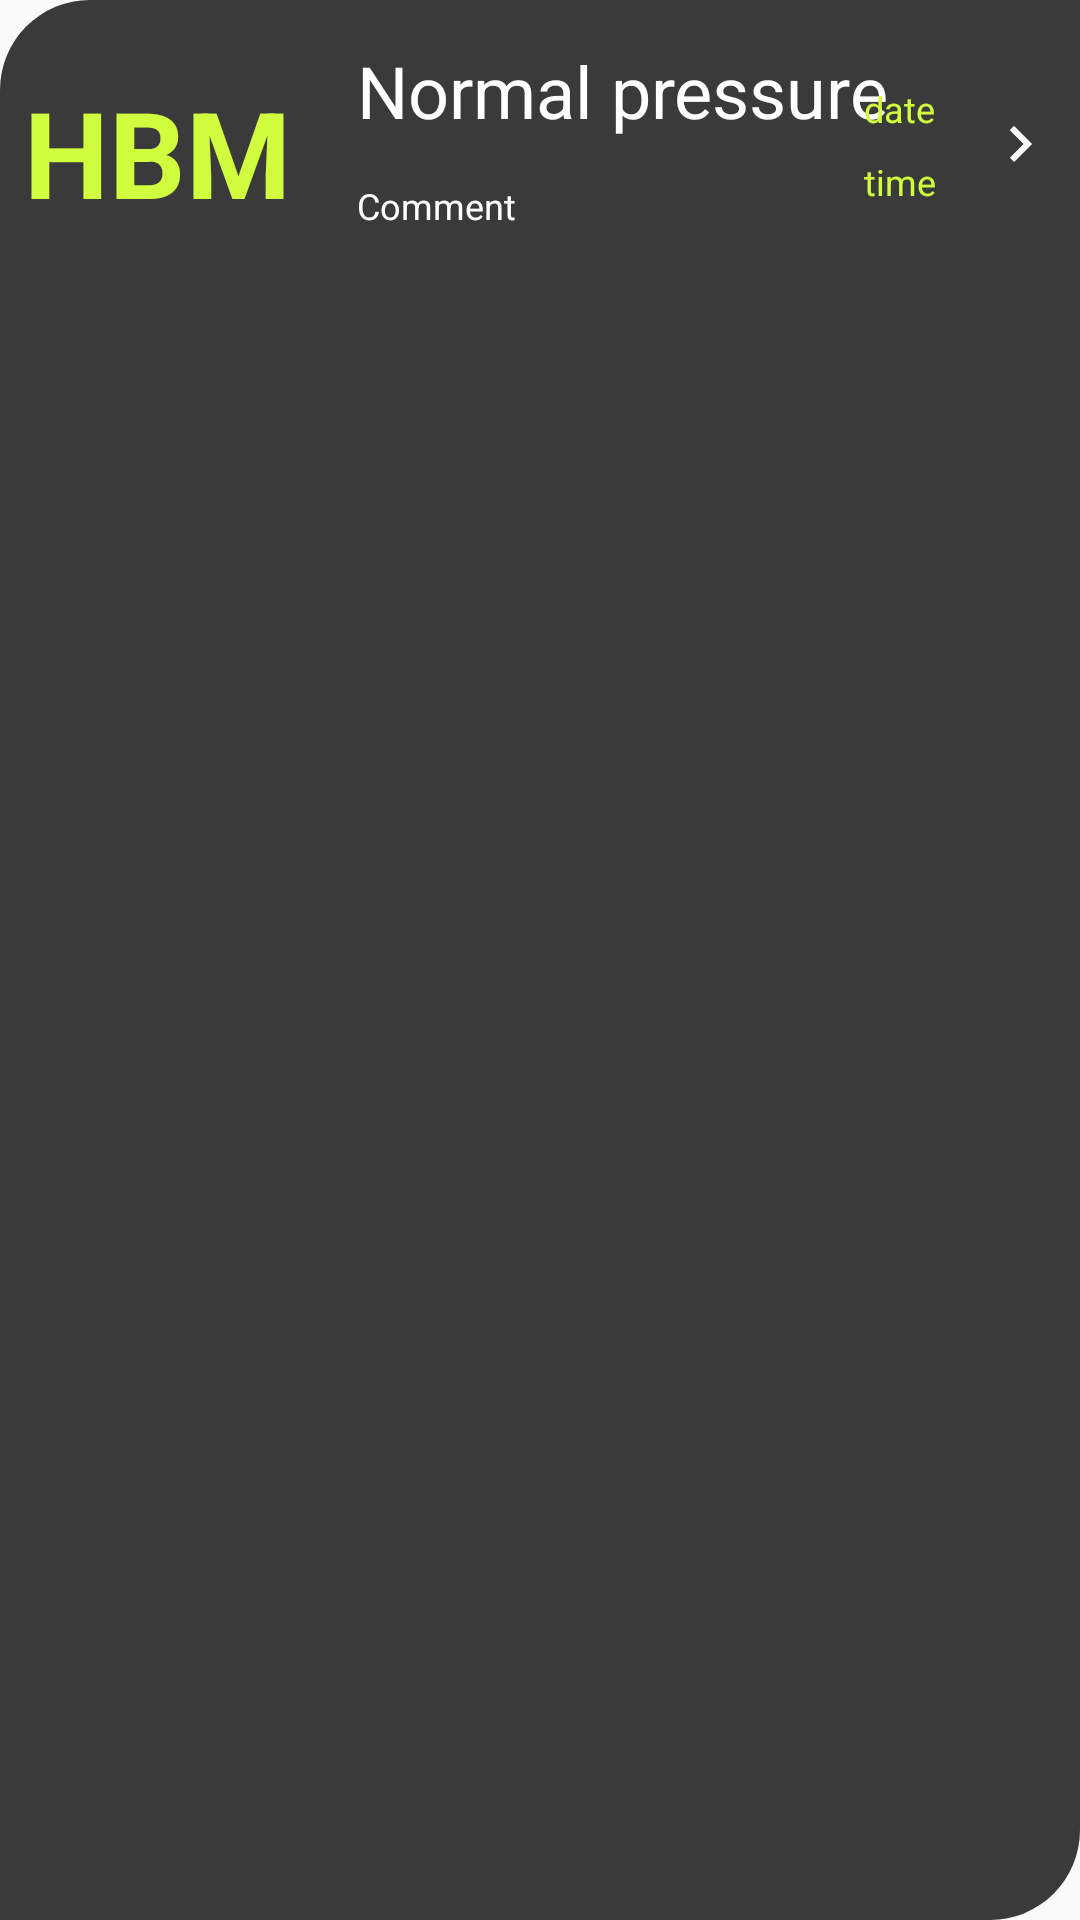

Icon click points for this 1080 × 1920 phone screenshot, format point (x, y):
keyboard arrow right: point (1021, 144)
